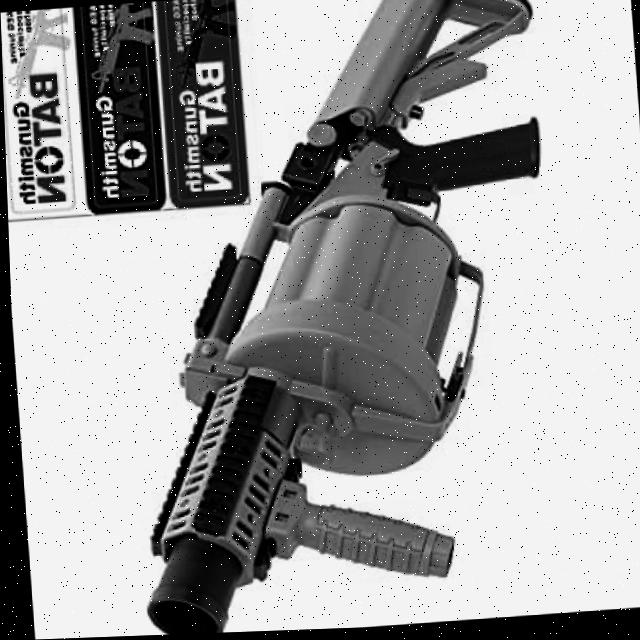rocket: (101, 0, 569, 637)
